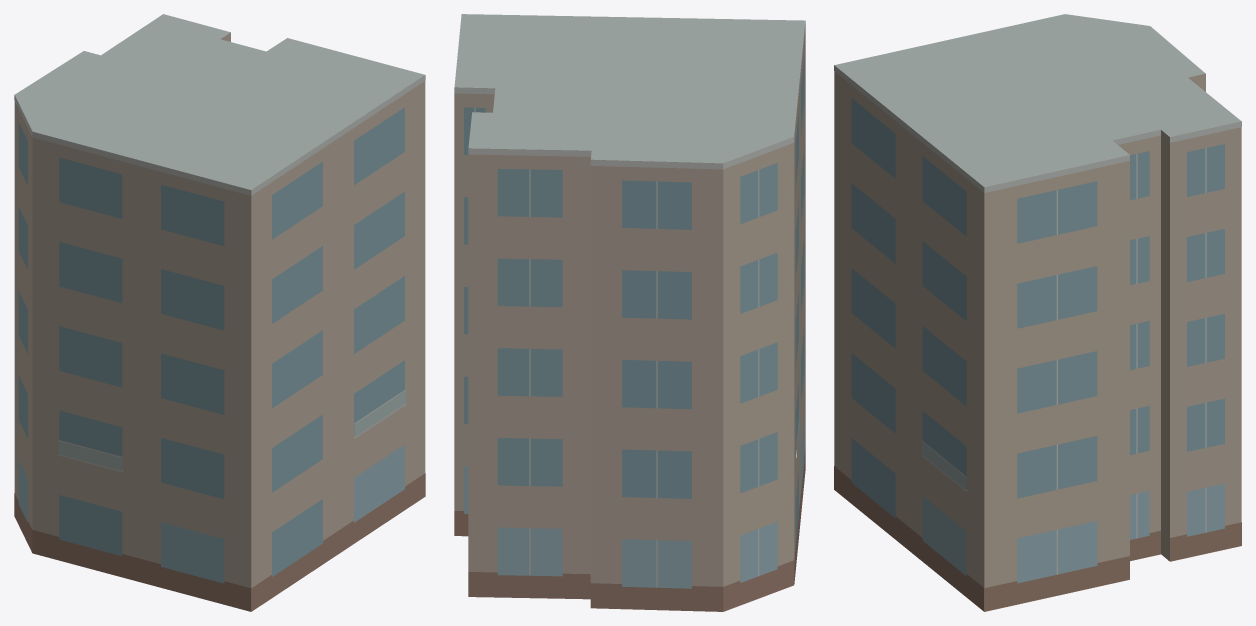
File: survey-upis-32832134.glb
3 renders of one model, left to right at view 1: azimuth 30°, elevation 25°; view 2: azimuth 150°, elevation 25°; view 3: azimuth 270°, elevation 25°, orthographic. The views are drawn at different scales.
Visible parts, largest first — view 1: survey-upis-32832134.tmp; view 2: survey-upis-32832134.tmp; view 3: survey-upis-32832134.tmp.
Part boxes in pixels (<box>): survey-upis-32832134.tmp: <box>14,14,425,611</box>; survey-upis-32832134.tmp: <box>454,14,805,611</box>; survey-upis-32832134.tmp: <box>834,14,1241,611</box>.
Bounding box in the file's own units: 15.77 × 18 × 15.67.
